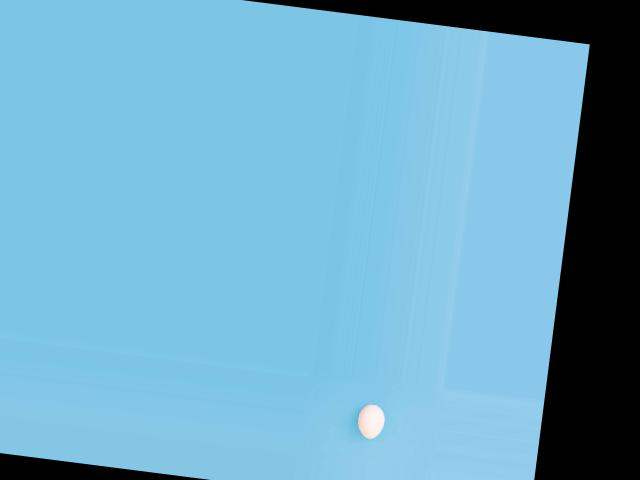egg: (355, 402, 386, 440)
